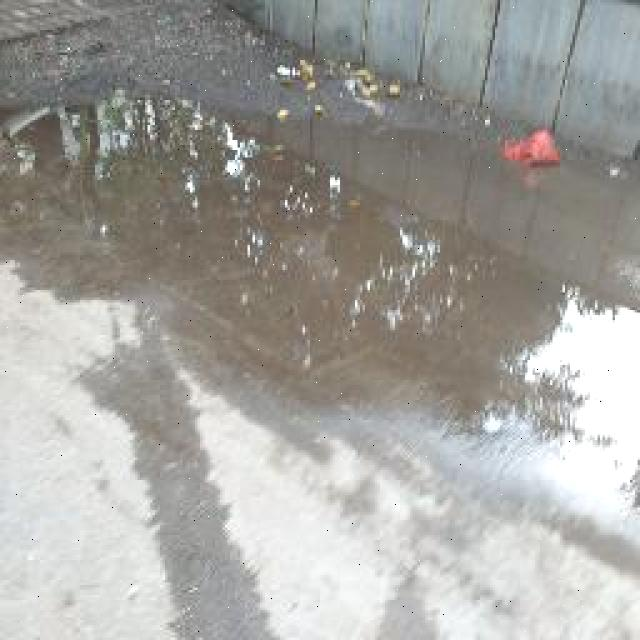waterlogging: (8, 74, 354, 326)
